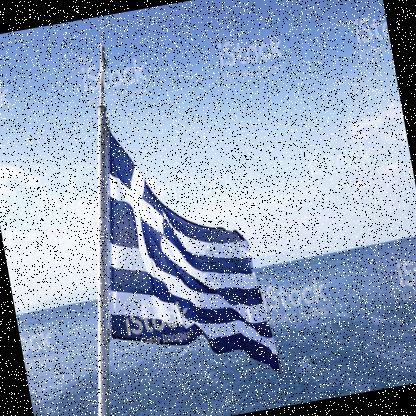gr: (70, 97, 283, 404)
